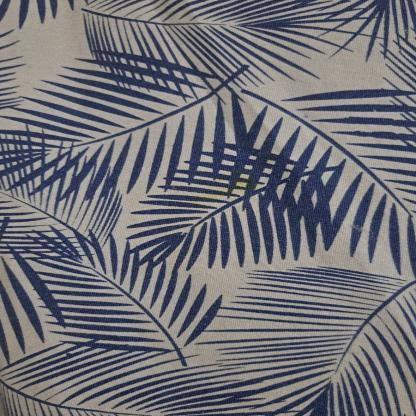spot: (187, 155, 309, 208)
